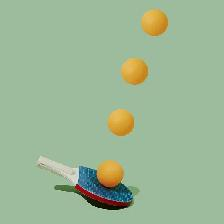YellowBall: (106, 107, 134, 136), (96, 159, 124, 187), (140, 9, 168, 36), (120, 57, 147, 84)
